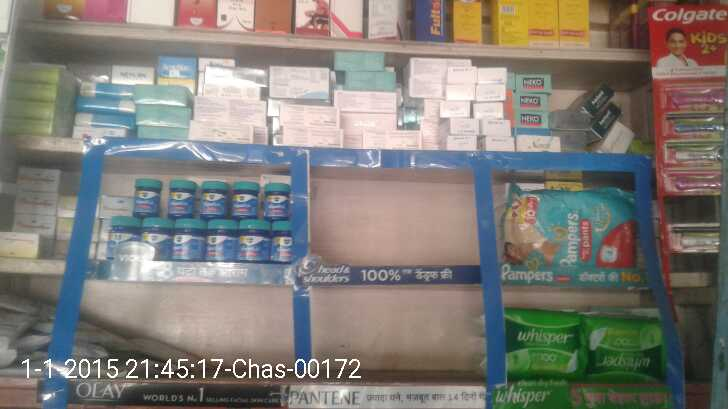pharmacy: (502, 177, 648, 279), (585, 312, 667, 387), (514, 308, 586, 373), (168, 217, 210, 261), (141, 210, 170, 261), (208, 216, 237, 266), (132, 167, 160, 218), (103, 218, 138, 256), (229, 182, 262, 222), (167, 175, 194, 223), (197, 180, 228, 217), (234, 228, 268, 260), (265, 185, 287, 217), (275, 226, 293, 259)
